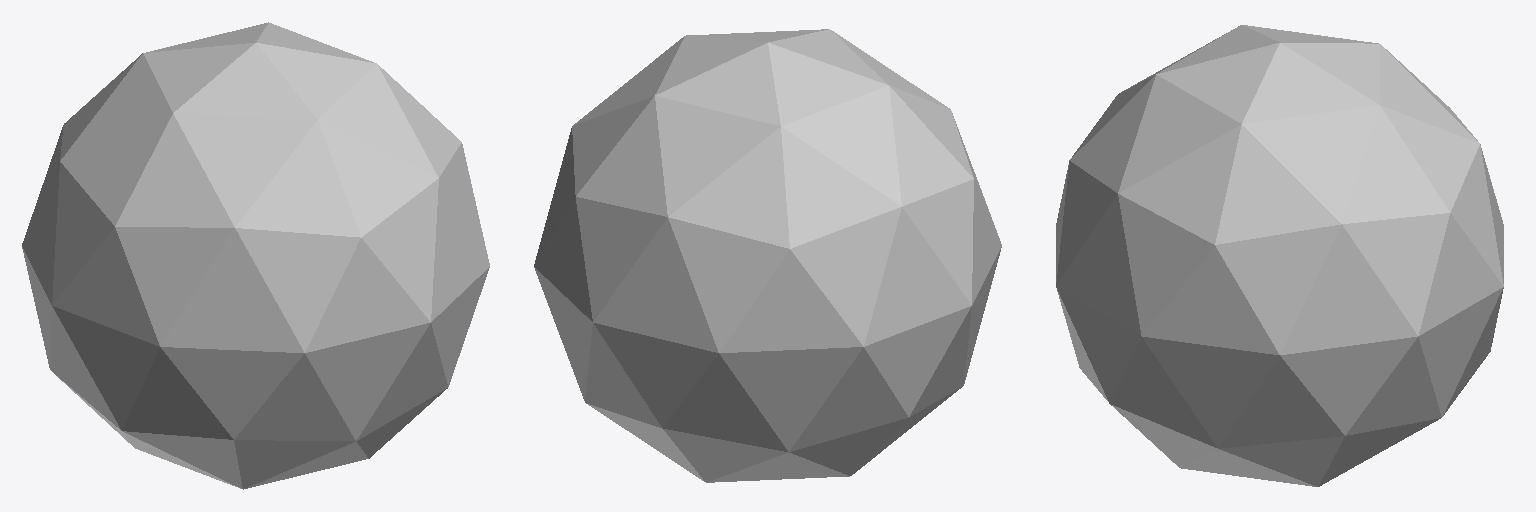
File: firefly2.obj
The picture shows the model from 3 angles: view 1: azimuth 30°, elevation 25°; view 2: azimuth 150°, elevation 25°; view 3: azimuth 270°, elevation 25°; orthographic projection.
Visible parts, largest first — view 1: Icosphere.010; view 2: Icosphere.010; view 3: Icosphere.010.
Part boxes in pixels (left/top/right/bottom): Icosphere.010: left=22, top=22, right=489, bottom=489; Icosphere.010: left=534, top=29, right=1001, bottom=482; Icosphere.010: left=1056, top=25, right=1503, bottom=486.
Size of the model in its own units: 0.0346 by 0.0346 by 0.0329.